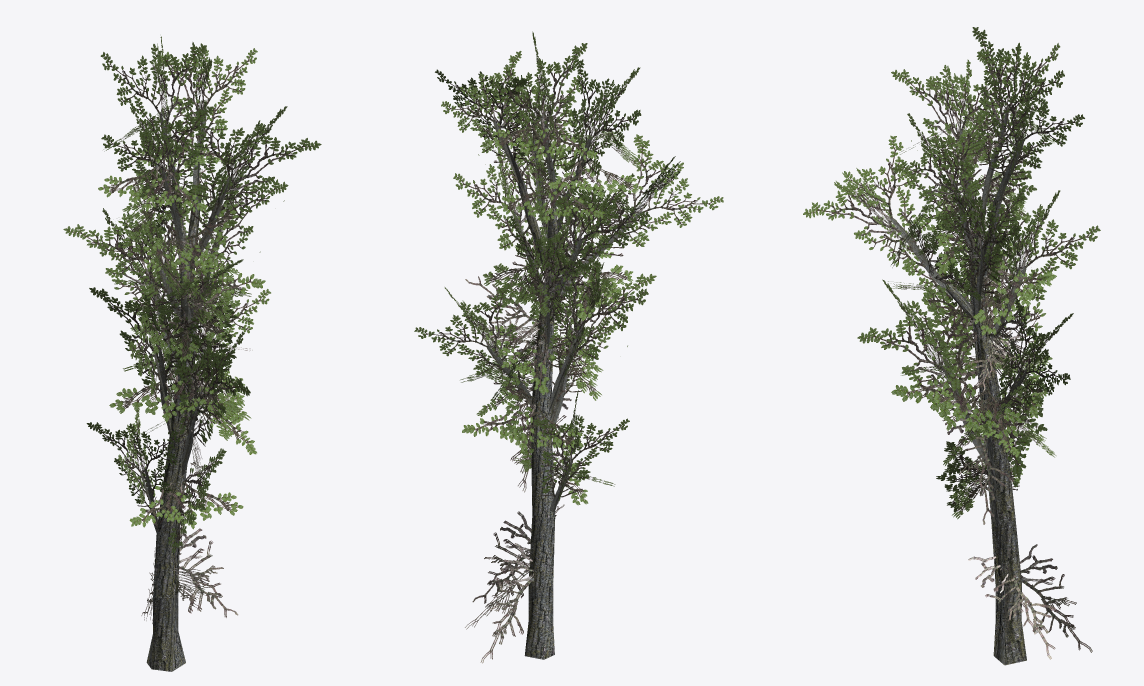
The model's file is olmo_c.glb.
3 renders of one model, left to right at view 1: azimuth 30°, elevation 25°; view 2: azimuth 150°, elevation 25°; view 3: azimuth 270°, elevation 25°, orthographic. The views are drawn at different scales.
Visible parts, largest first — view 1: Modelo; view 2: Modelo; view 3: Modelo.
Boxes of the visible parts, x1,y1,x2,y2 form: Modelo: [63, 36, 321, 671]; Modelo: [414, 31, 723, 663]; Modelo: [803, 27, 1100, 665].
Size of the model in its own units: 5.04 by 10.88 by 5.5.
1 material, 1 textured.
